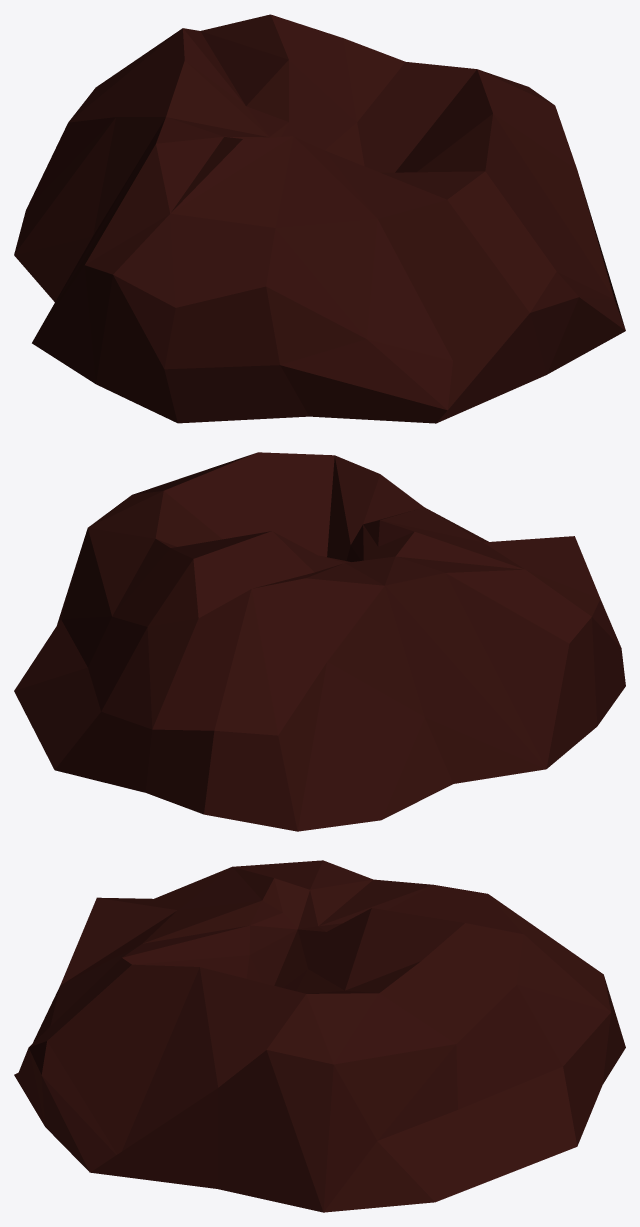
File: GoldDust.obj
The picture shows the model from 3 angles, top to bottom: view 1: azimuth 30°, elevation 25°; view 2: azimuth 150°, elevation 25°; view 3: azimuth 270°, elevation 25°; orthographic projection. The views are drawn at different scales.
Visible parts, largest first — view 1: IronDustPile; view 2: IronDustPile; view 3: IronDustPile.
Part boxes in pixels (<box>): IronDustPile: <box>14,14,625,423</box>; IronDustPile: <box>14,452,625,831</box>; IronDustPile: <box>14,860,625,1212</box>.
Size of the model in its own units: 0.2549 by 0.0938 by 0.2749.
